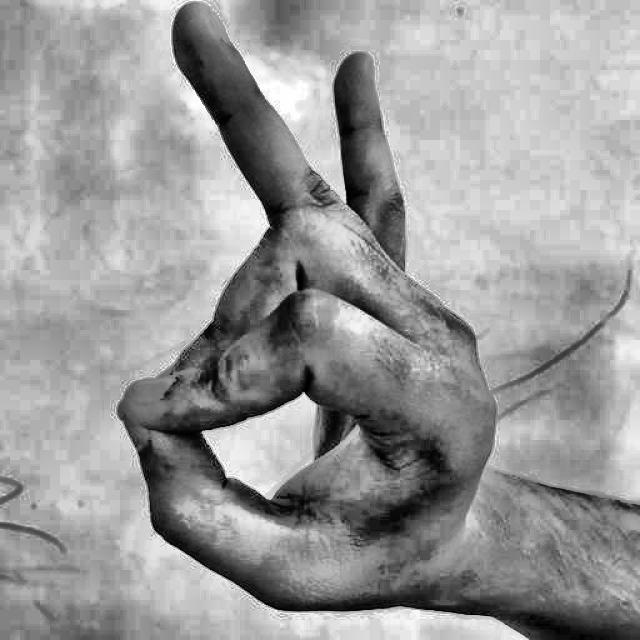Na: (78, 3, 510, 637)
